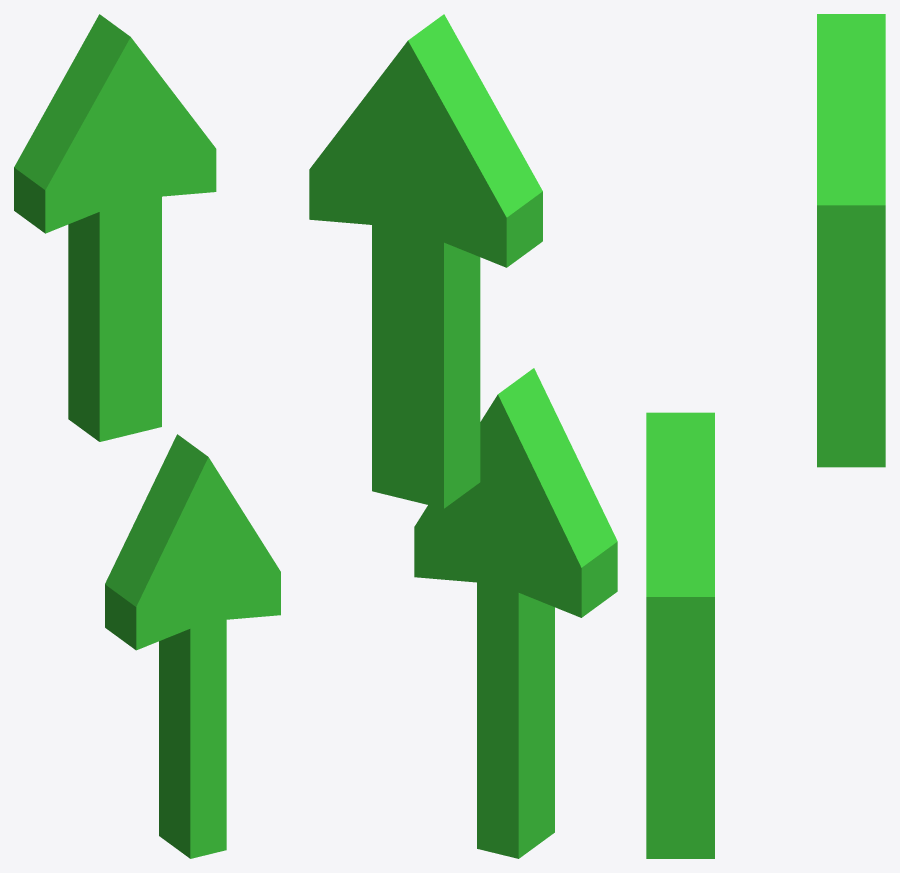
Rendered from Powa jump.fbx.
The picture shows the model from 3 angles, left to right: view 1: azimuth 30°, elevation 25°; view 2: azimuth 150°, elevation 25°; view 3: azimuth 270°, elevation 25°; orthographic projection. The views are drawn at different scales.
Visible parts, largest first — view 1: Cube.002; view 2: Cube.002; view 3: Cube.002.
Boxes of the visible parts, x1,y1,x2,y2 form: Cube.002: (14,14,280,858); Cube.002: (309,14,617,858); Cube.002: (646,14,885,858).
Bounding box in the file's own units: 94.44 × 402 × 104.
